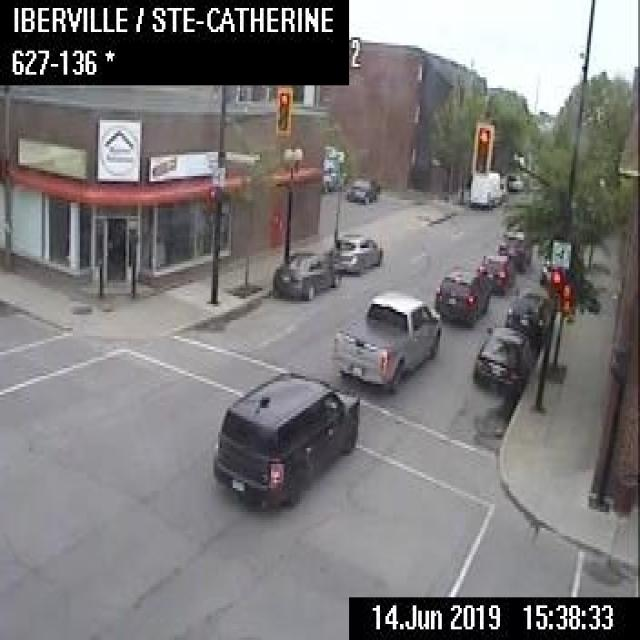vehicle: (211, 370, 359, 512), (332, 288, 438, 386), (471, 325, 530, 392), (433, 264, 490, 320), (271, 252, 340, 298), (504, 286, 552, 344), (328, 232, 382, 273), (475, 253, 514, 293), (497, 227, 531, 271), (467, 170, 501, 208), (538, 264, 577, 296), (344, 176, 376, 201), (320, 156, 338, 192), (503, 170, 522, 189), (498, 175, 506, 199)
